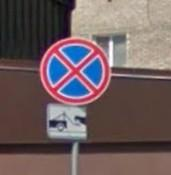No Parking: (40, 38, 112, 106)
